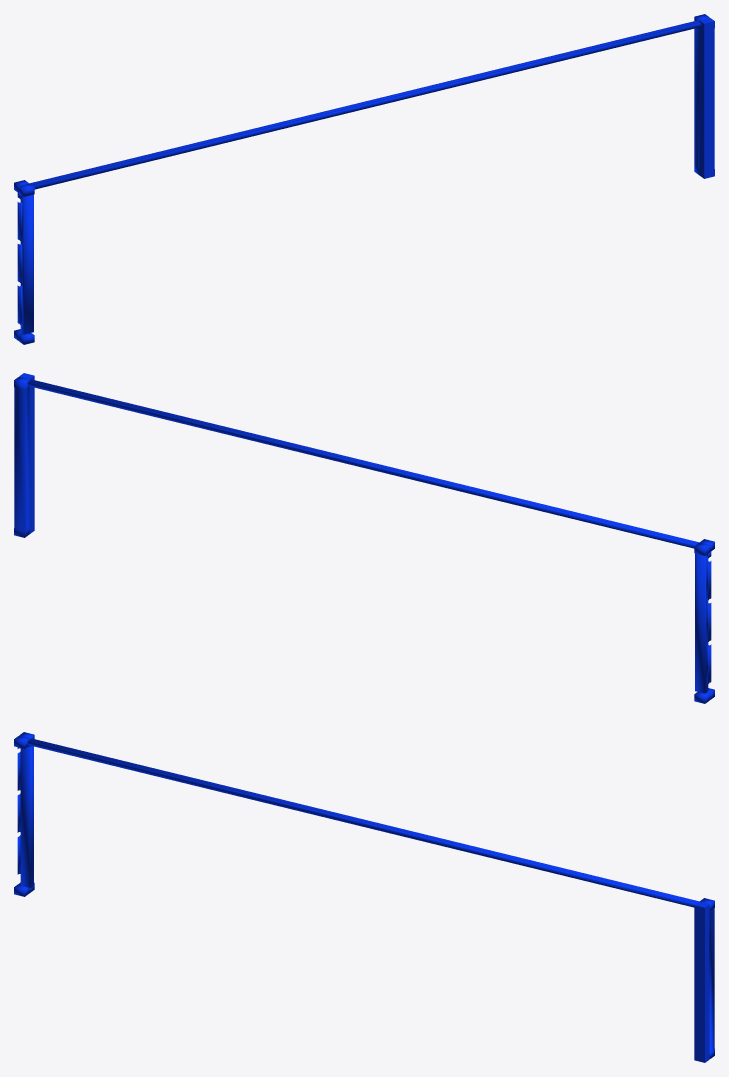
The model's file is threshold12m.FBX.
3 views of the same model, one above another, from view 1: azimuth 30°, elevation 25°; view 2: azimuth 150°, elevation 25°; view 3: azimuth 330°, elevation 25° (orthographic).
Parts seen in each view (by area): view 1: threshold12m; view 2: threshold12m; view 3: threshold12m.
Part boxes in pixels (bbox=[...]): threshold12m: bbox=[14, 14, 714, 344]; threshold12m: bbox=[14, 373, 714, 703]; threshold12m: bbox=[14, 732, 714, 1062].
Bounding box in the file's own units: 1204 × 29.87 × 258.
